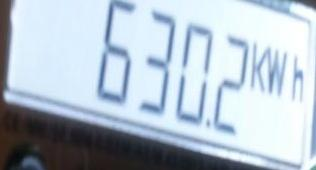.: (248, 41, 304, 100)
0: (205, 117, 212, 130)
1: (175, 26, 214, 122)
3: (213, 35, 250, 134)
4: (139, 12, 179, 116)
7: (96, 0, 137, 103)
